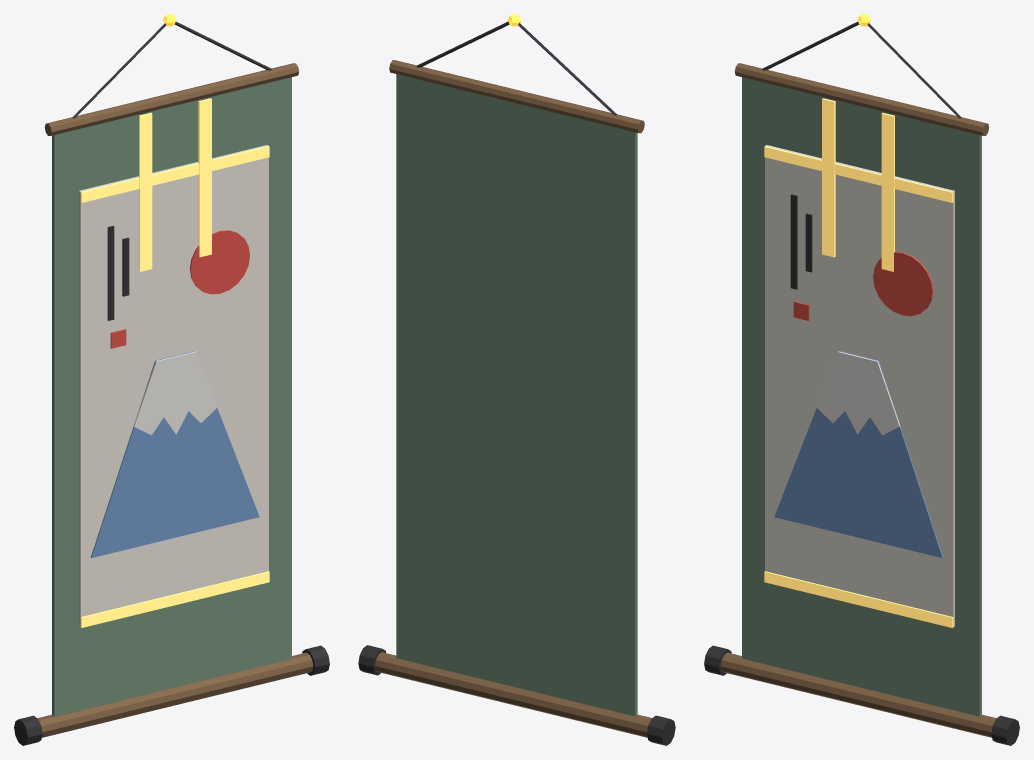
Rendered from jp_scroll.glb.
3 renders of one model, left to right at view 1: azimuth 30°, elevation 25°; view 2: azimuth 150°, elevation 25°; view 3: azimuth 330°, elevation 25°, orthographic.
Parts seen in each view (by area): view 1: jp_scroll; view 2: jp_scroll; view 3: jp_scroll.
Part boxes in pixels (<box>): jp_scroll: <box>14,14,329,745</box>; jp_scroll: <box>358,14,675,745</box>; jp_scroll: <box>704,14,1019,745</box>.
Size of the model in its own units: 0.61 by 1.33 by 0.048.
